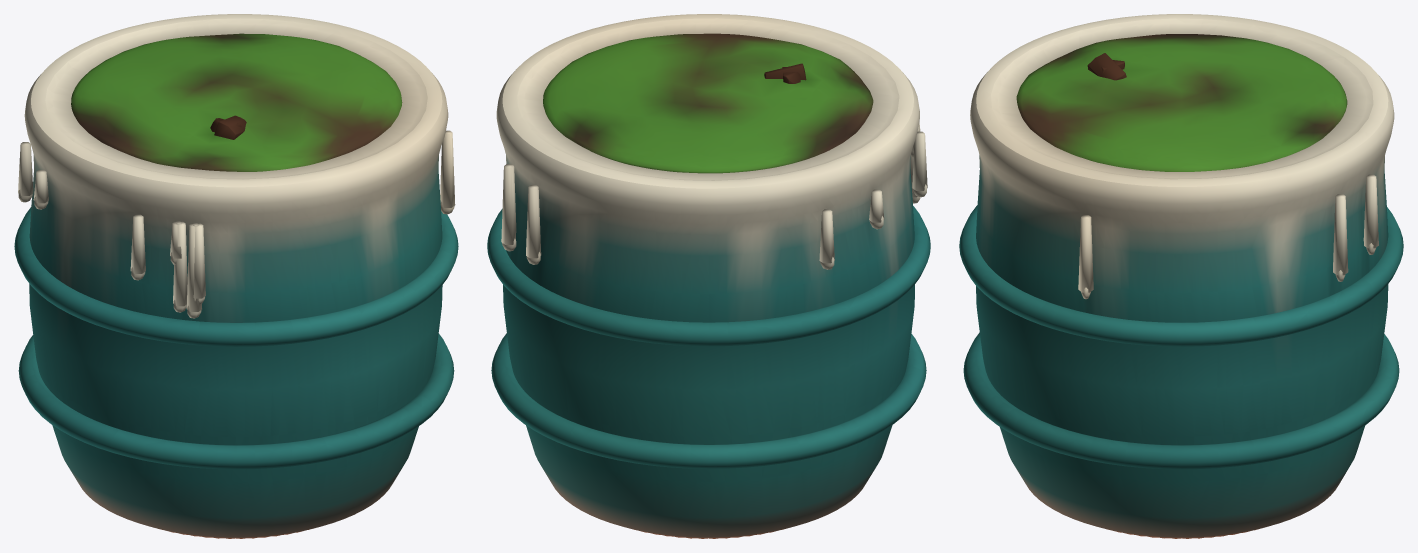
The model's file is canopy_pot_glazed.glb.
3 renders of one model, left to right at view 1: azimuth 30°, elevation 25°; view 2: azimuth 150°, elevation 25°; view 3: azimuth 270°, elevation 25°, orthographic.
Parts seen in each view (by area): view 1: canopy_pot_glazed; view 2: canopy_pot_glazed; view 3: canopy_pot_glazed.
Boxes of the visible parts, <box> form: canopy_pot_glazed: <box>14,14,458,538</box>; canopy_pot_glazed: <box>487,14,930,538</box>; canopy_pot_glazed: <box>959,14,1403,538</box>.
Size of the model in its own units: 10.35 by 10.46 by 10.35.
